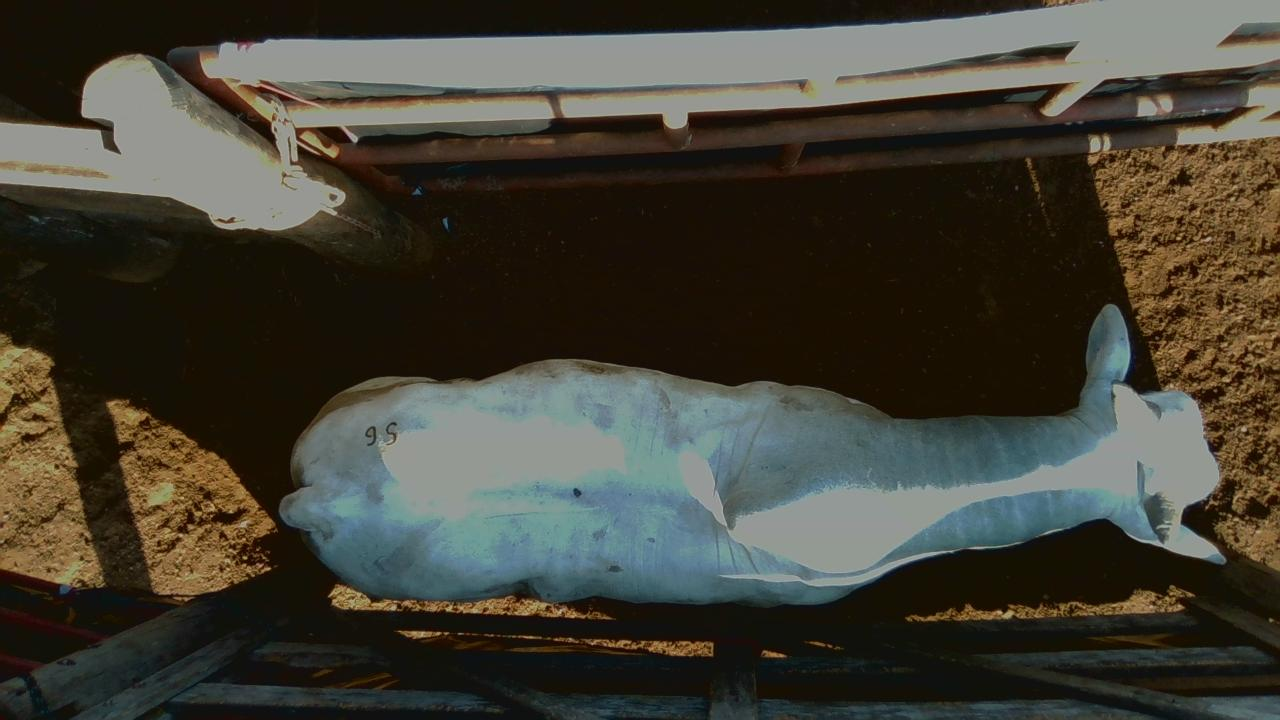cattle: (278, 302, 1227, 608)
